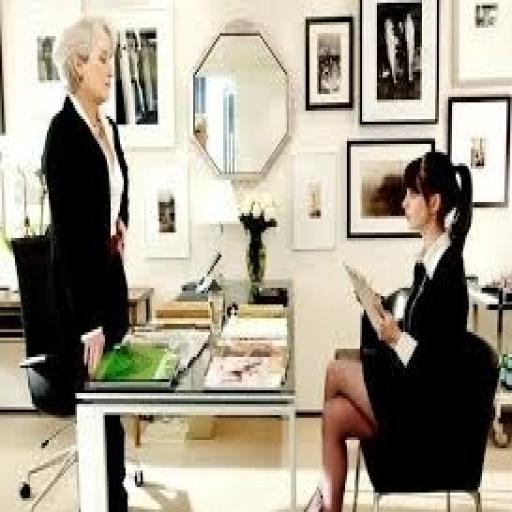sitting: (28, 14, 493, 506), (302, 147, 474, 509)
